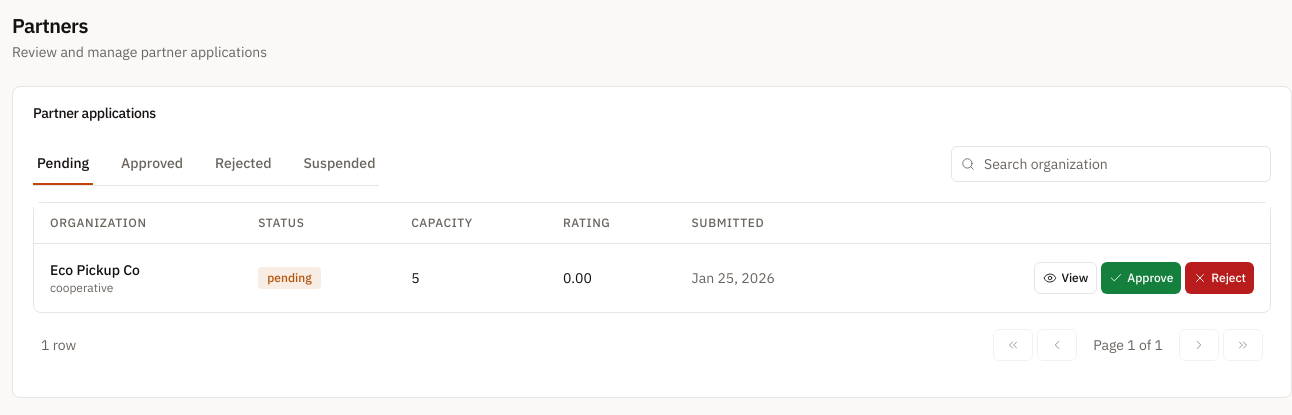
Partners › renders partners in the correct tab based on status
Expected: the text "Eco Pickup Co" is shown, [50,260,140,278]
Click the button "Approved".
click(152, 163)  # box [117,141,187,185]
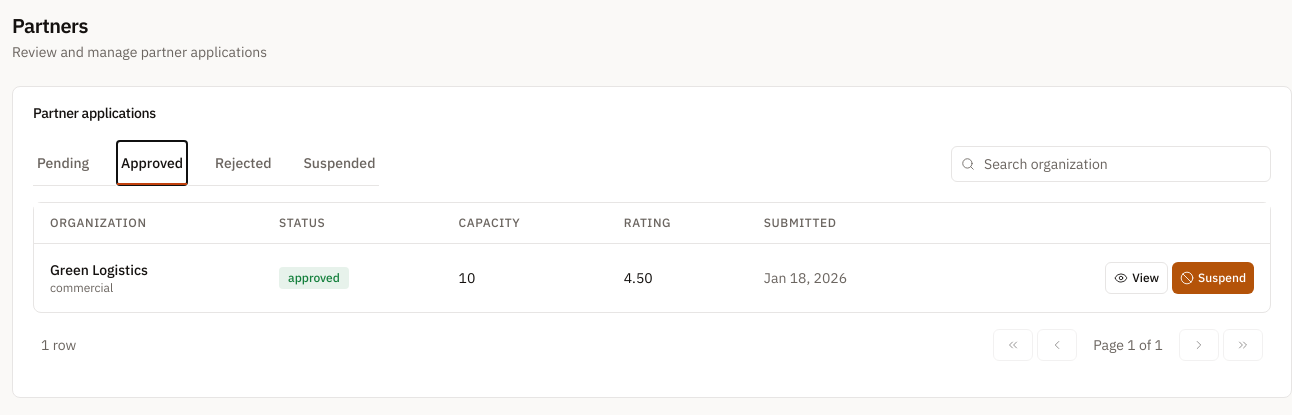
Result: the text "Green Logistics" is shown at [50,260,148,278]
